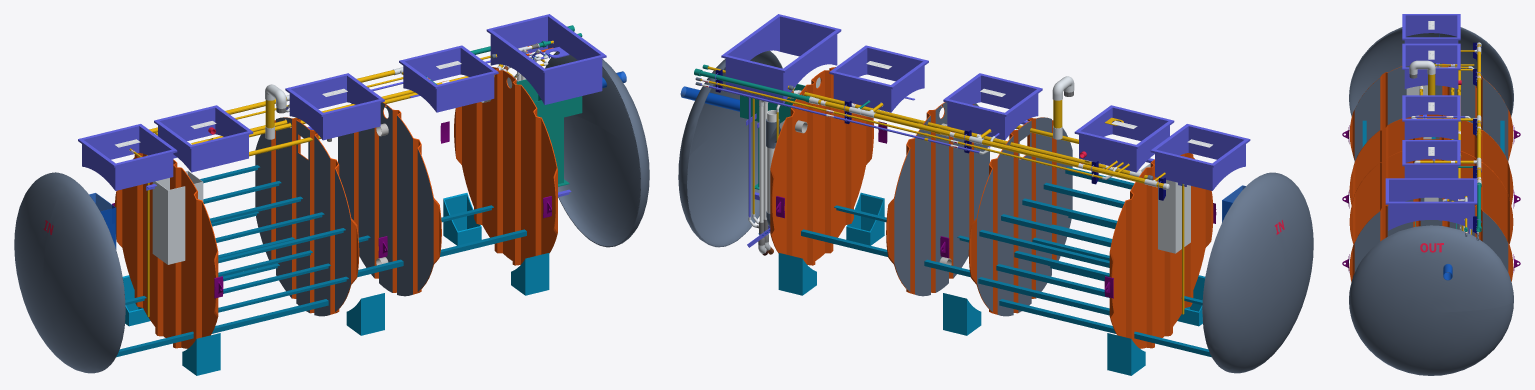
Rendered from FRP_System_AR_Animated_Draco.glb.
3 views of the same model, side by side, from view 1: azimuth 30°, elevation 25°; view 2: azimuth 150°, elevation 25°; view 3: azimuth 270°, elevation 25° (orthographic). The views are drawn at different scales.
Parts seen in each view (by area): view 1: AR_GRP_06_Vessel_Body_Left, AR_GRP_07_Vessel_Body_Right, AR_GRP_08_Vessel_Body_Center, AR_GRP_02_Top_Valve_Right, AR_GRP_01_Top_Valve_Left, AR_GRP_03_Top_Manifold_Center, AR_GRP_00_Base_Skid_Anchor, AR_GRP_04_Front_Piping_Header, AR_GRP_05_Rear_Manifold_Support; view 2: AR_GRP_06_Vessel_Body_Left, AR_GRP_08_Vessel_Body_Center, AR_GRP_07_Vessel_Body_Right, AR_GRP_02_Top_Valve_Right, AR_GRP_05_Rear_Manifold_Support, AR_GRP_01_Top_Valve_Left, AR_GRP_03_Top_Manifold_Center, AR_GRP_00_Base_Skid_Anchor, AR_GRP_04_Front_Piping_Header; view 3: AR_GRP_07_Vessel_Body_Right, AR_GRP_06_Vessel_Body_Left, AR_GRP_08_Vessel_Body_Center, AR_GRP_02_Top_Valve_Right, AR_GRP_01_Top_Valve_Left, AR_GRP_03_Top_Manifold_Center, AR_GRP_05_Rear_Manifold_Support, AR_GRP_04_Front_Piping_Header.
Part boxes in pixels (x1,y1,x2,y2): AR_GRP_06_Vessel_Body_Left: (14,153,312,373); AR_GRP_07_Vessel_Body_Right: (454,52,649,265); AR_GRP_08_Vessel_Body_Center: (255,102,441,316); AR_GRP_02_Top_Valve_Right: (357,14,606,112); AR_GRP_01_Top_Valve_Left: (78,97,286,190); AR_GRP_03_Top_Manifold_Center: (146,73,384,156); AR_GRP_00_Base_Skid_Anchor: (122,193,549,375); AR_GRP_04_Front_Piping_Header: (116,189,571,357); AR_GRP_05_Rear_Manifold_Support: (112,69,626,305); AR_GRP_06_Vessel_Body_Left: (1014,153,1313,373); AR_GRP_08_Vessel_Body_Center: (886,102,1072,316); AR_GRP_07_Vessel_Body_Right: (678,50,873,265); AR_GRP_02_Top_Valve_Right: (694,14,944,139); AR_GRP_05_Rear_Manifold_Support: (680,86,1211,357); AR_GRP_01_Top_Valve_Left: (940,105,1250,200); AR_GRP_03_Top_Manifold_Center: (918,73,1147,178); AR_GRP_00_Base_Skid_Anchor: (762,192,1205,375); AR_GRP_04_Front_Piping_Header: (834,121,1216,305); AR_GRP_07_Vessel_Body_Right: (1349,198,1513,375); AR_GRP_06_Vessel_Body_Left: (1349,27,1513,161); AR_GRP_08_Vessel_Body_Center: (1349,114,1513,243); AR_GRP_02_Top_Valve_Right: (1385,134,1481,240); AR_GRP_01_Top_Valve_Left: (1402,14,1481,131); AR_GRP_03_Top_Manifold_Center: (1402,60,1481,157); AR_GRP_05_Rear_Manifold_Support: (1443,120,1520,280); AR_GRP_04_Front_Piping_Header: (1342,120,1366,272).
Size of the model in its own units: 6.65 by 2.52 by 2.16.
